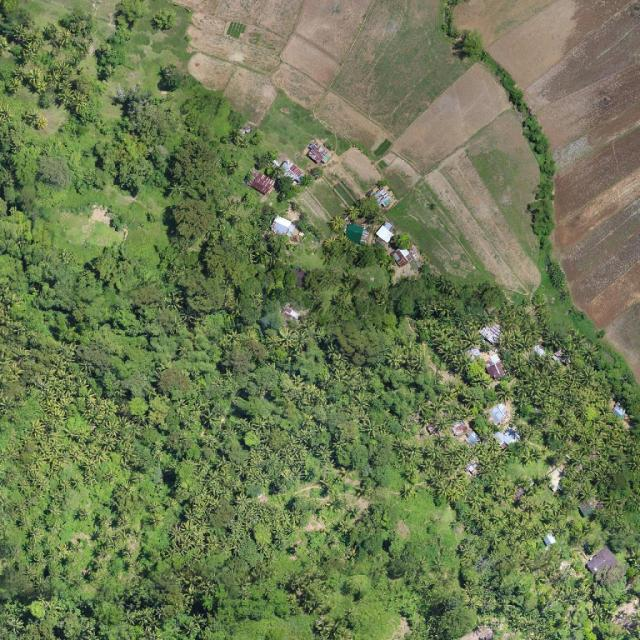building: (466, 339, 512, 384), (362, 179, 401, 213), (271, 152, 307, 187), (302, 137, 335, 169), (484, 400, 515, 432), (450, 419, 482, 449), (371, 219, 401, 249), (388, 238, 418, 268), (246, 170, 277, 198), (342, 222, 372, 246), (494, 426, 521, 449), (270, 215, 297, 237), (479, 324, 503, 346), (344, 203, 359, 218)
